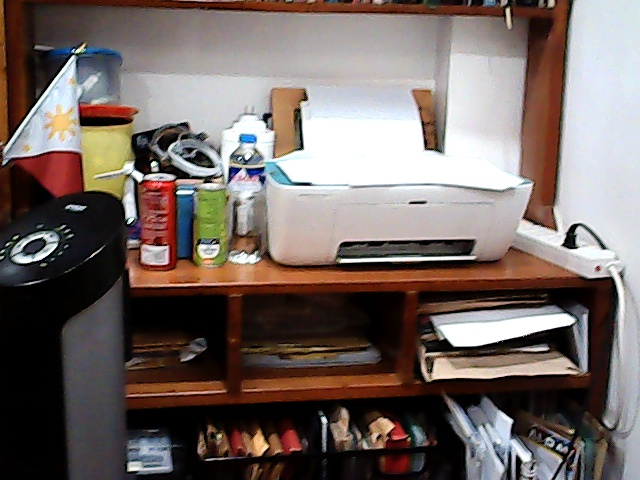Cola: (135, 170, 182, 278)
Pine Juice: (185, 180, 235, 277)
Summit Water: (229, 128, 274, 267)
